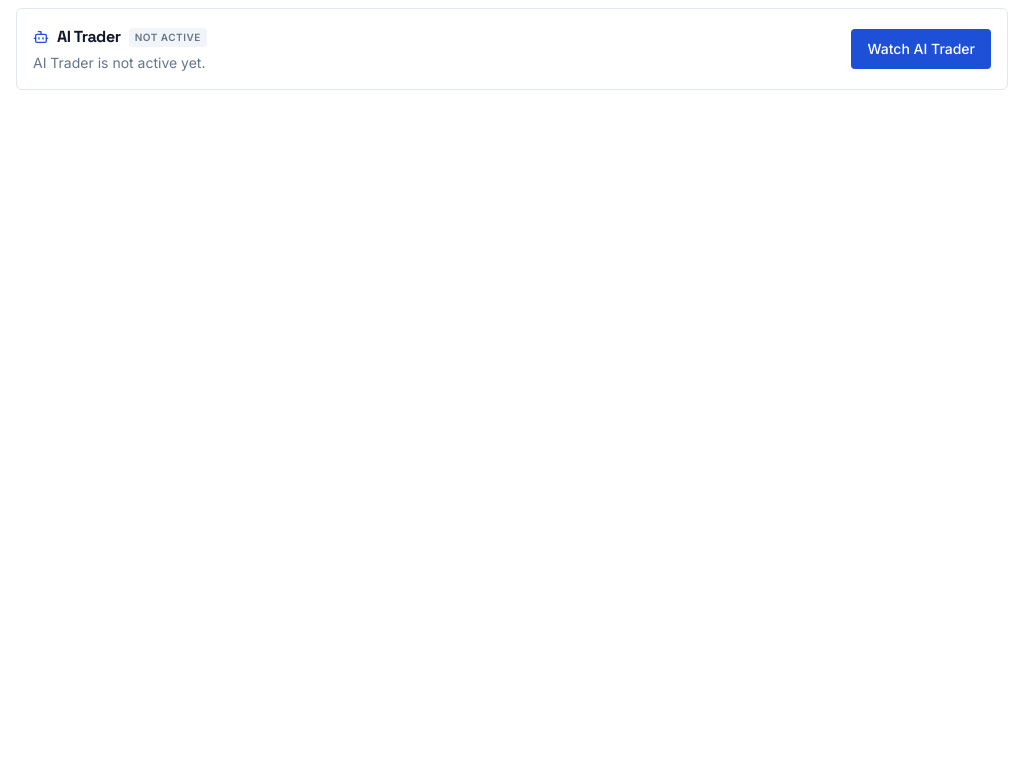
Test: AI Trader acquisition surface › shows the inactive preview and an honest watch dialog
The width and height of the screenshot is (1024, 768).
Expected: the heading "AI Trader" is shown, 57,25 -> 121,49
Expected: the text "AI Trader is not active yet." is shown, 33,53 -> 207,73
Click the button "Watch AI Trader" at (921, 49), box 852,29 -> 991,69
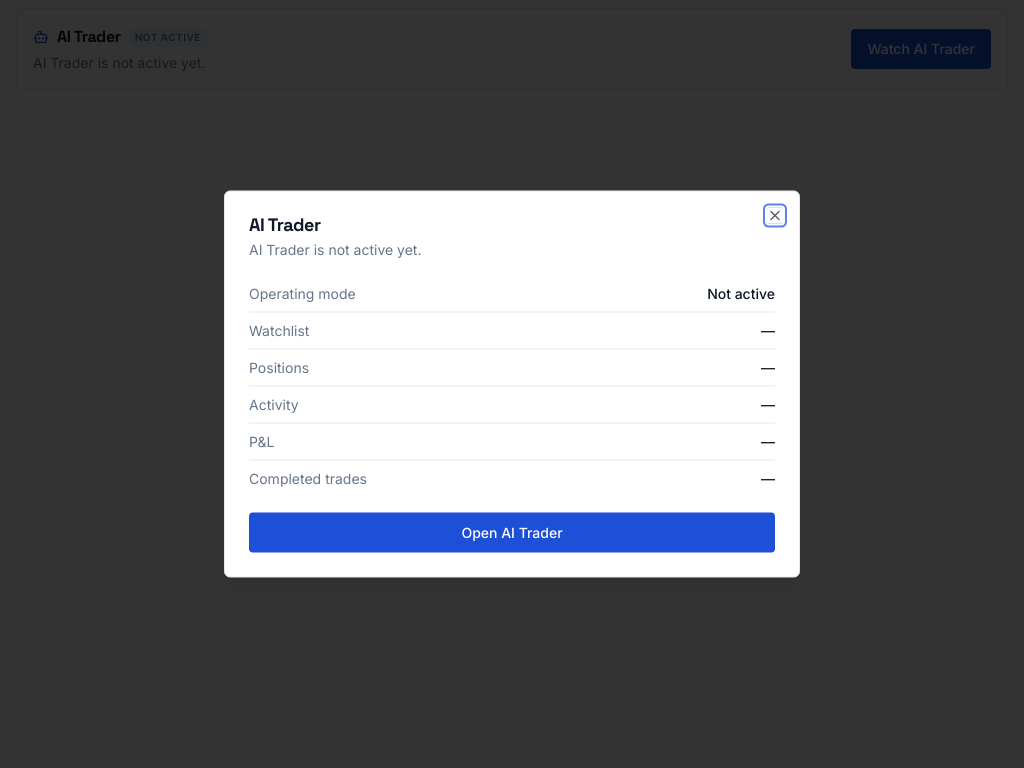
Expected: the 1st text "AI Trader is not active yet." is shown, 33,53 -> 207,73
Expected: the dialog is shown, 224,190 -> 800,578
